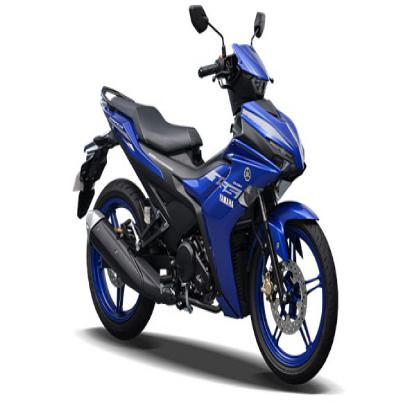Motorcycle: (69, 0, 341, 389)
